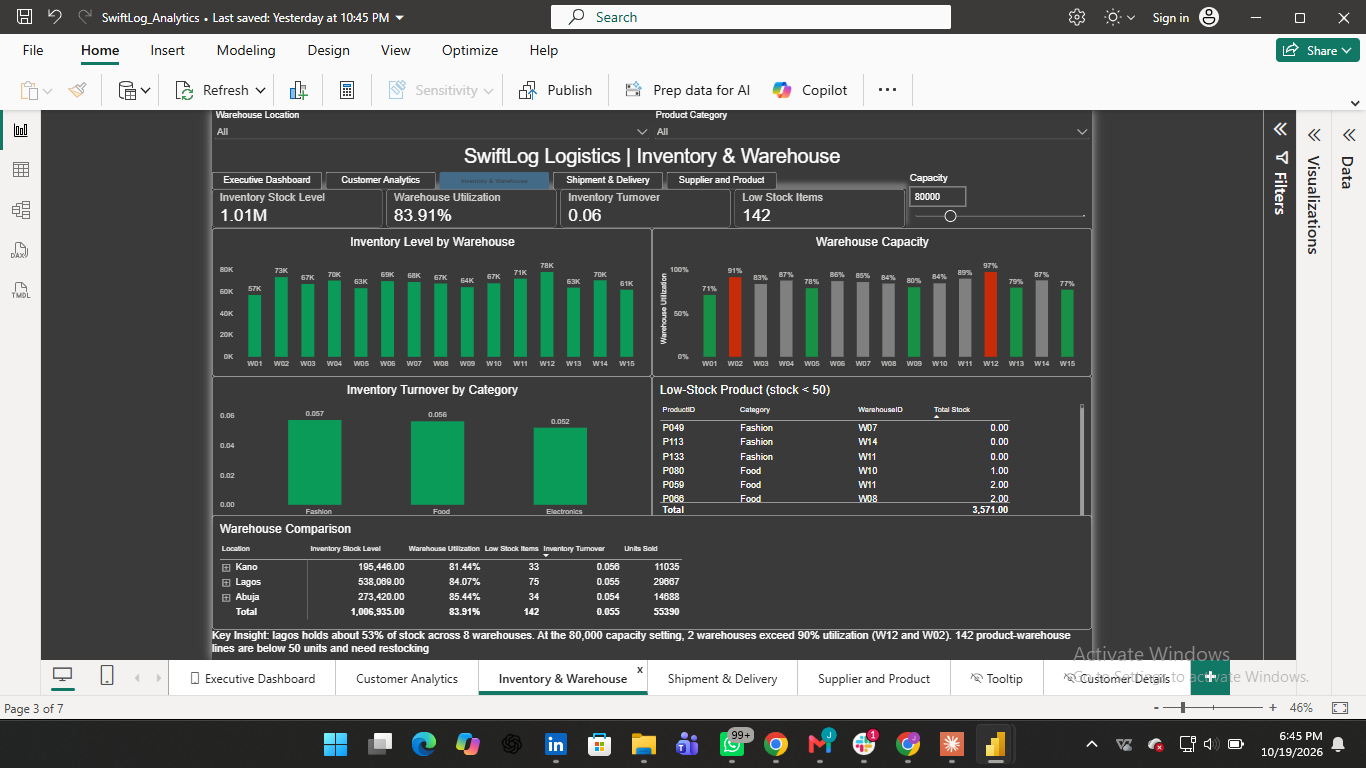

What the dashboard file says about the page in this screenshot:
{"tool":"powerbi","page":{"name":"Inventory & Warehouse","canvas":[1920,1200],"ordinal":2},"visuals":[{"type":"cardVisual","fields":{"Data":["_Measures.Inventory Stock Level","_Measures.Warehouse Utilization","_Measures.Inventory Turnover","_Measures.Low Stock Items"]},"box":[0,172.8,1514.4,84],"z":0},{"type":"slicer","title":"Top 10 Customers","fields":{"Values":["Warehouse Capacity.Capacity"]},"box":[1514.4,134.4,405.6,144],"z":1000},{"type":"clusteredColumnChart","title":"Inventory Level by Warehouse","fields":{"Category":["SwiftLog_Warehouses.WarehouseID"],"Y":["_Measures.Inventory Stock Level"]},"box":[0,256.8,960,324],"z":2000},{"type":"clusteredColumnChart","title":"Warehouse Capacity","fields":{"Y":["_Measures.Warehouse Utilization"],"Category":["SwiftLog_Warehouses.WarehouseID"]},"box":[960,256.8,960,324],"z":3000},{"type":"clusteredColumnChart","title":"Inventory Turnover by Category","fields":{"Category":["SwiftLog_Products.Category"],"Y":["_Measures.Inventory Turnover"]},"box":[0,580.8,960,324],"z":4000},{"type":"slicer","fields":{"Values":["SwiftLog_Products.Category"]},"box":[960,0,960,76.8],"z":5000},{"type":"slicer","fields":{"Values":["SwiftLog_Warehouses.Location"]},"box":[0,0,960,76.8],"z":6000},{"type":"textbox","box":[0,76.8,1920,57.6],"z":7000},{"type":"textbox","box":[0,1132.8,1920,67.2],"z":8000},{"type":"tableEx","title":"Low-Stock Product (stock < 50)","fields":{"Values":["SwiftLog_Products.ProductID","SwiftLog_Products.Category","SwiftLog_Warehouses.WarehouseID","Sum(SwiftLog_Inventory.Total Stock)"]},"box":[960,580.8,960,324],"z":9000},{"type":"pivotTable","title":"Warehouse Comparison","fields":{"Rows":["SwiftLog_Warehouses.Location","SwiftLog_Warehouses.WarehouseID"],"Values":["_Measures.Inventory Stock Level","_Measures.Warehouse Utilization","_Measures.Low Stock Items","_Measures.Inventory Turnover","_Measures.Units Sold"]},"box":[0,883.2,1920,249.6],"z":10000},{"type":"pageNavigator","box":[0,134.4,1236,38.4],"z":11000}]}

Visuals, with their boxes on the page's 1920x1200 design canvas (x1, y1, x2, y2). These are canvas units, not pixel positions in the 1366x768 screenshot, which may show the page scaled, cropped or inside an application window:
cardVisual - _Measures.Inventory Stock Level x _Measures.Warehouse Utilization: 0 173 1514 257
"Top 10 Customers" slicer: 1514 134 1920 278
"Inventory Level by Warehouse" clusteredColumnChart: 0 257 960 581
"Warehouse Capacity" clusteredColumnChart: 960 257 1920 581
"Inventory Turnover by Category" clusteredColumnChart: 0 581 960 905
slicer - SwiftLog_Products.Category: 960 0 1920 77
slicer - SwiftLog_Warehouses.Location: 0 0 960 77
textbox: 0 77 1920 134
textbox: 0 1133 1920 1200
"Low-Stock Product (stock < 50)" tableEx: 960 581 1920 905
"Warehouse Comparison" pivotTable: 0 883 1920 1133
pageNavigator: 0 134 1236 173
